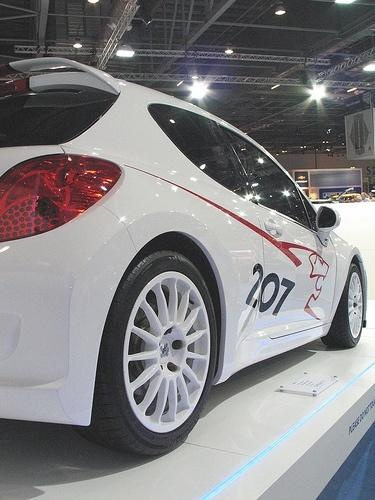car: (1, 58, 369, 458)
